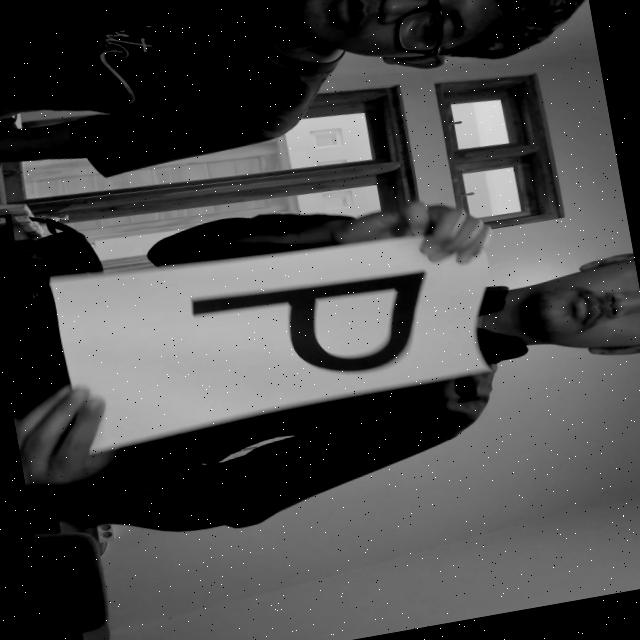p: (139, 239, 463, 418)
